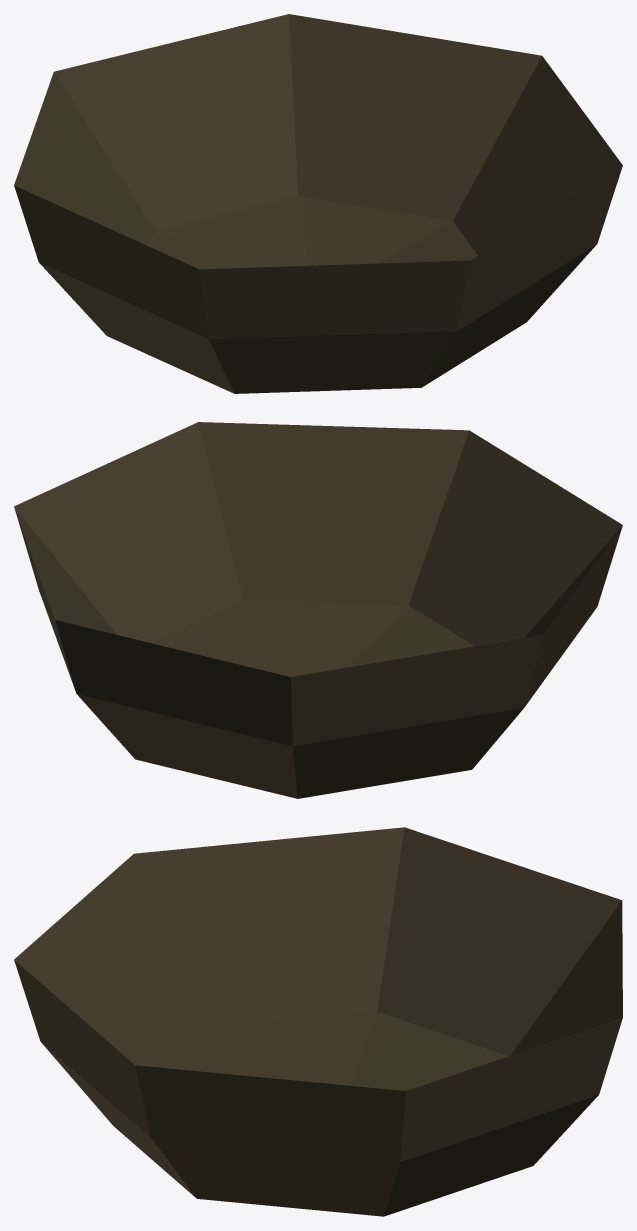
The model's file is BASKET_RICE.OBJ.
3 renders of one model, top to bottom at view 1: azimuth 30°, elevation 25°; view 2: azimuth 150°, elevation 25°; view 3: azimuth 270°, elevation 25°, orthographic. The views are drawn at different scales.
Parts seen in each view (by area): view 1: BASKET_RICE; view 2: BASKET_RICE; view 3: BASKET_RICE.
Boxes of the visible parts, x1=… form: BASKET_RICE: x1=14, y1=14, x2=622, y2=393; BASKET_RICE: x1=14, y1=422, x2=622, y2=798; BASKET_RICE: x1=14, y1=827, x2=622, y2=1216.
Bounding box in the file's own units: 0.6292 × 0.1941 × 0.6138.
